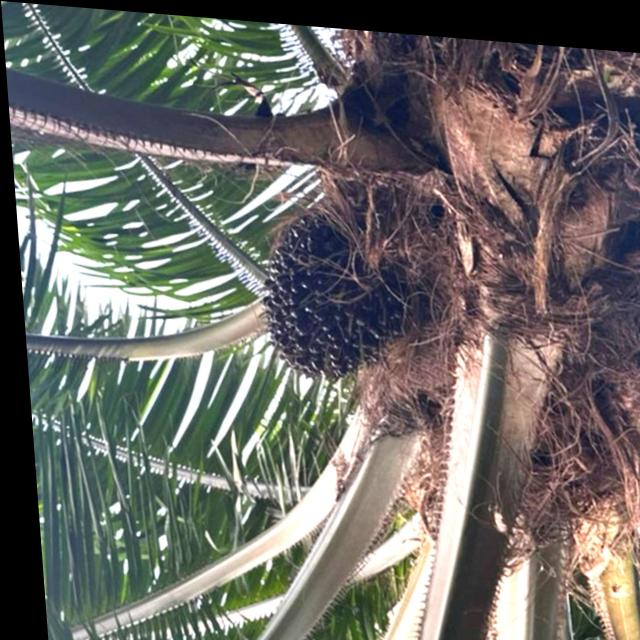almost: (250, 206, 419, 388)
